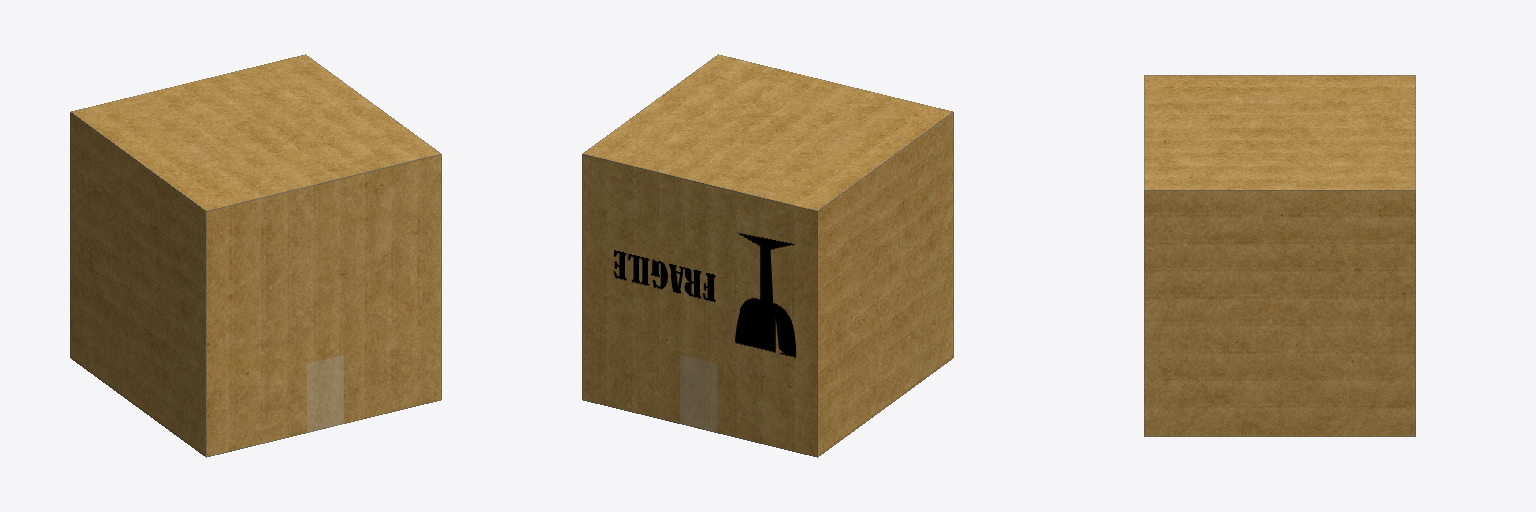
3 renders of one model, left to right at view 1: azimuth 30°, elevation 25°; view 2: azimuth 150°, elevation 25°; view 3: azimuth 270°, elevation 25°, orthographic.
Visible parts, largest first — view 1: pCube1; view 2: pCube1; view 3: pCube1.
Boxes of the visible parts, <box> form: pCube1: <box>70,54,441,457</box>; pCube1: <box>582,54,953,457</box>; pCube1: <box>1144,75,1415,436</box>.
Bounding box in the file's own units: 14 × 14 × 14.
Materials: 1 (1 with a texture image).